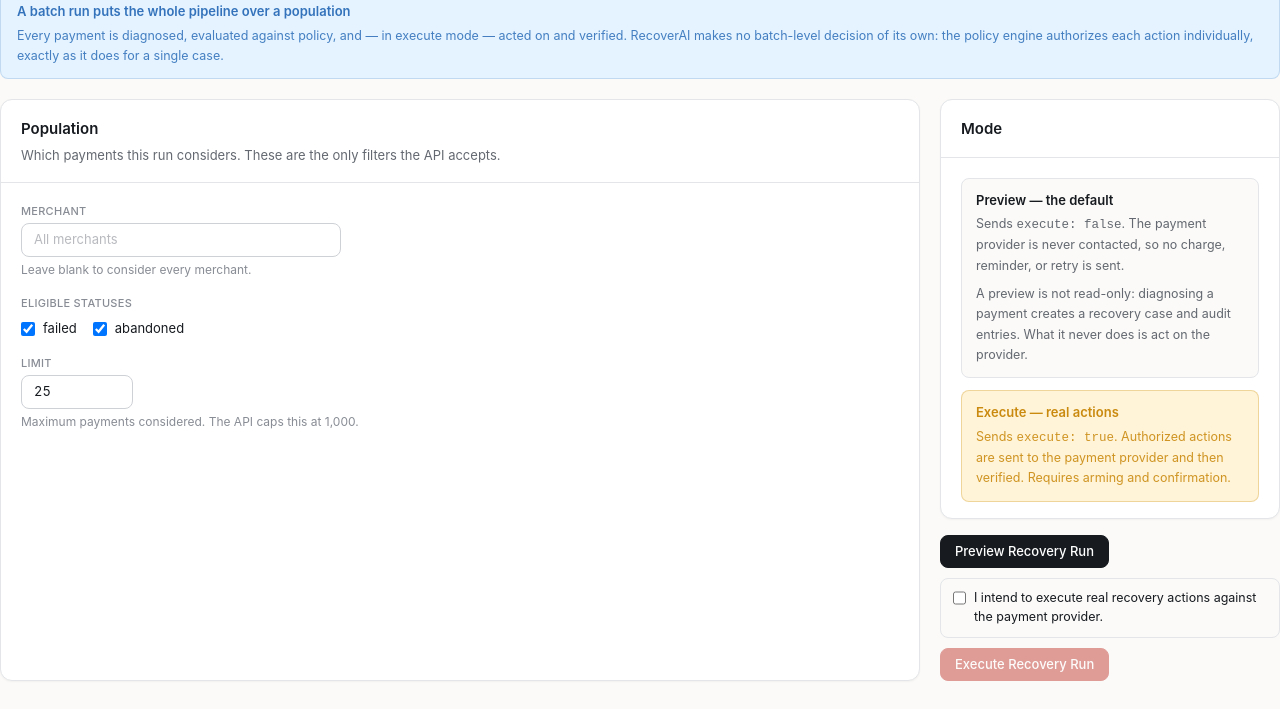
it: Batch Recovery — duplicate submission and retry › a 400 renders the validation issues the backend supplied
Click the button "Preview Recovery Run".
click(1024, 552)  # box [940, 535, 1109, 568]
(page scrolled)
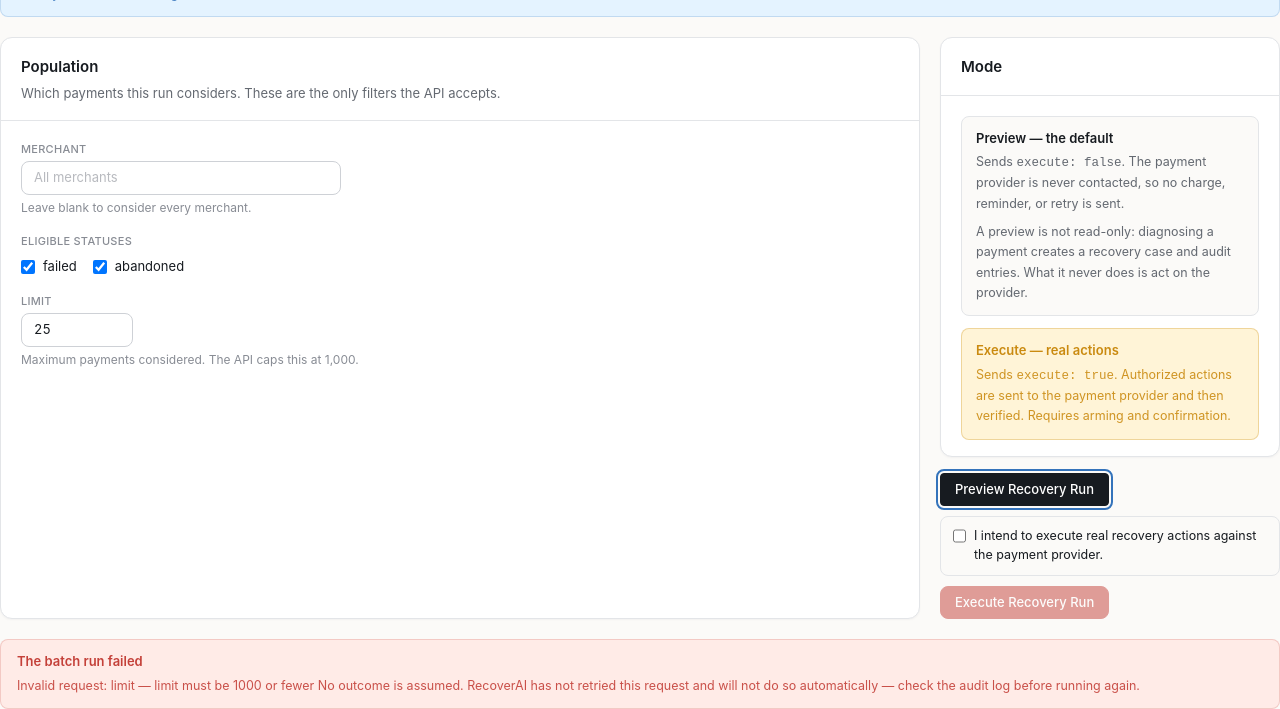
Now the message shows "limit must be 1000 or fewer", box [17, 678, 314, 693]
